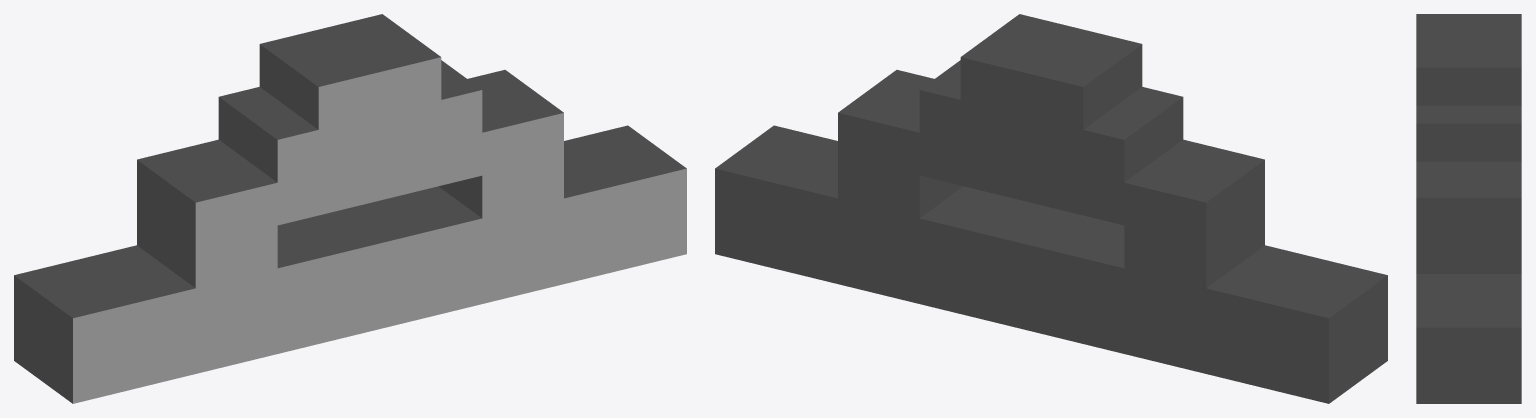
The model's file is Johnny-transformed.glb.
3 views of the same model, side by side, from view 1: azimuth 30°, elevation 25°; view 2: azimuth 150°, elevation 25°; view 3: azimuth 270°, elevation 25° (orthographic). The views are drawn at different scales.
Visible parts, largest first — view 1: Johnny; view 2: Johnny; view 3: Johnny.
Boxes of the visible parts, <box> form: Johnny: <box>14,14,686,403</box>; Johnny: <box>715,14,1387,403</box>; Johnny: <box>1416,14,1521,403</box>.
Bounding box in the file's own units: 3.46 × 1.38 × 0.5752.
Materials: 1 (1 with a texture image).
